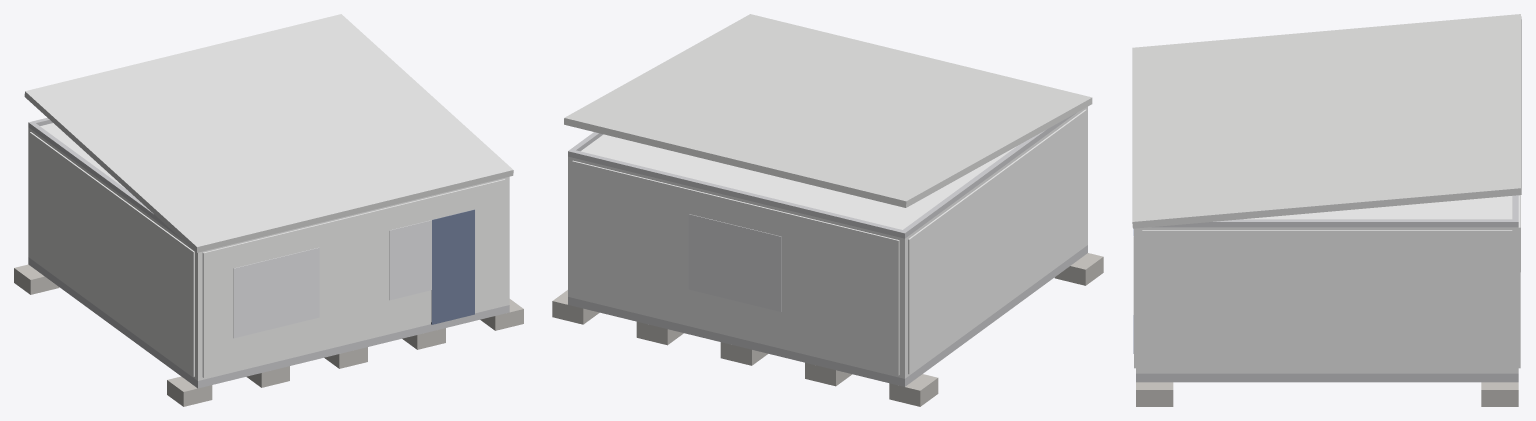
The model's file is Studio-20-Premium+SlopingRoof-LOD2.glb.
The picture shows the model from 3 angles, left to right: view 1: azimuth 30°, elevation 25°; view 2: azimuth 150°, elevation 25°; view 3: azimuth 270°, elevation 25°; orthographic projection. The views are drawn at different scales.
Visible parts, largest first — view 1: RoofSlopingUpgrade, ExteriorPanelsPremium, WindowsLargeUpgrade, EntryDoor, FoundationBlocks, ExteriorShell, BaseFrame, TopFrame, InteriorCeiling; view 2: ExteriorPanelsPremium, RoofSlopingUpgrade, InteriorCeiling, WindowsLargeUpgrade, ExteriorShell, FoundationBlocks, TopFrame, BaseFrame; view 3: RoofSlopingUpgrade, ExteriorPanelsPremium, ExteriorShell, BaseFrame, InteriorCeiling, TopFrame, FoundationBlocks.
Boxes of the visible parts, x1,y1,x2,y2 form: RoofSlopingUpgrade: (24, 14, 513, 252); ExteriorPanelsPremium: (29, 132, 505, 377); WindowsLargeUpgrade: (233, 209, 475, 338); EntryDoor: (431, 209, 474, 324); FoundationBlocks: (14, 264, 523, 406); ExteriorShell: (28, 127, 509, 380); BaseFrame: (28, 257, 509, 388); TopFrame: (28, 117, 181, 239); InteriorCeiling: (40, 123, 127, 190); ExteriorPanelsPremium: (572, 109, 1086, 375); RoofSlopingUpgrade: (564, 14, 1092, 207); InteriorCeiling: (581, 134, 1016, 229); WindowsLargeUpgrade: (688, 214, 781, 312); ExteriorShell: (568, 106, 1087, 378); FoundationBlocks: (552, 253, 1103, 406); TopFrame: (568, 113, 1075, 238); BaseFrame: (568, 245, 1087, 386); RoofSlopingUpgrade: (1132, 14, 1521, 228); ExteriorPanelsPremium: (1134, 195, 1520, 371); ExteriorShell: (1136, 227, 1518, 373); BaseFrame: (1136, 373, 1518, 382); InteriorCeiling: (1244, 196, 1512, 219); TopFrame: (1152, 195, 1518, 227); FoundationBlocks: (1136, 382, 1518, 406).
Bounding box in the file's own units: 7.14 × 3.77 × 6.27.
